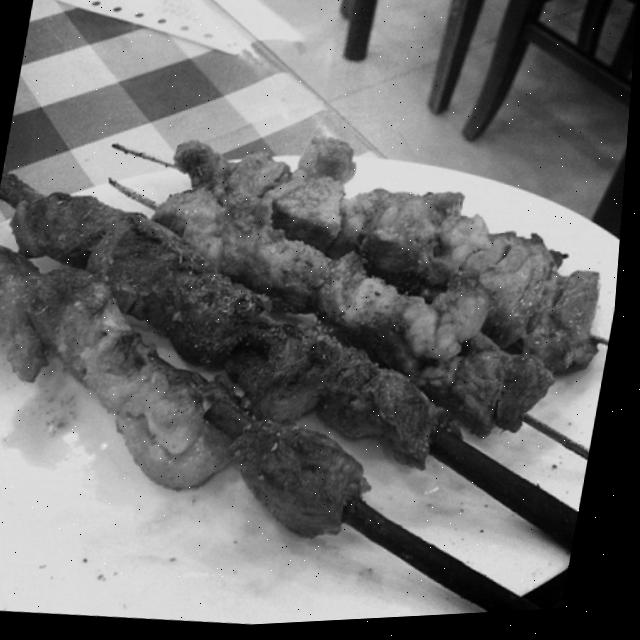烧串烤肉: (0, 21, 637, 640)
